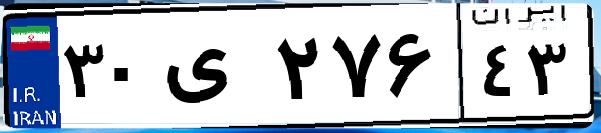0: (110, 28, 158, 98)
2: (270, 28, 330, 110)
3: (57, 26, 110, 100), (525, 38, 570, 115)
4: (475, 38, 525, 113)
6: (385, 28, 445, 110)
7: (330, 28, 385, 110)
ی: (158, 20, 270, 120)
